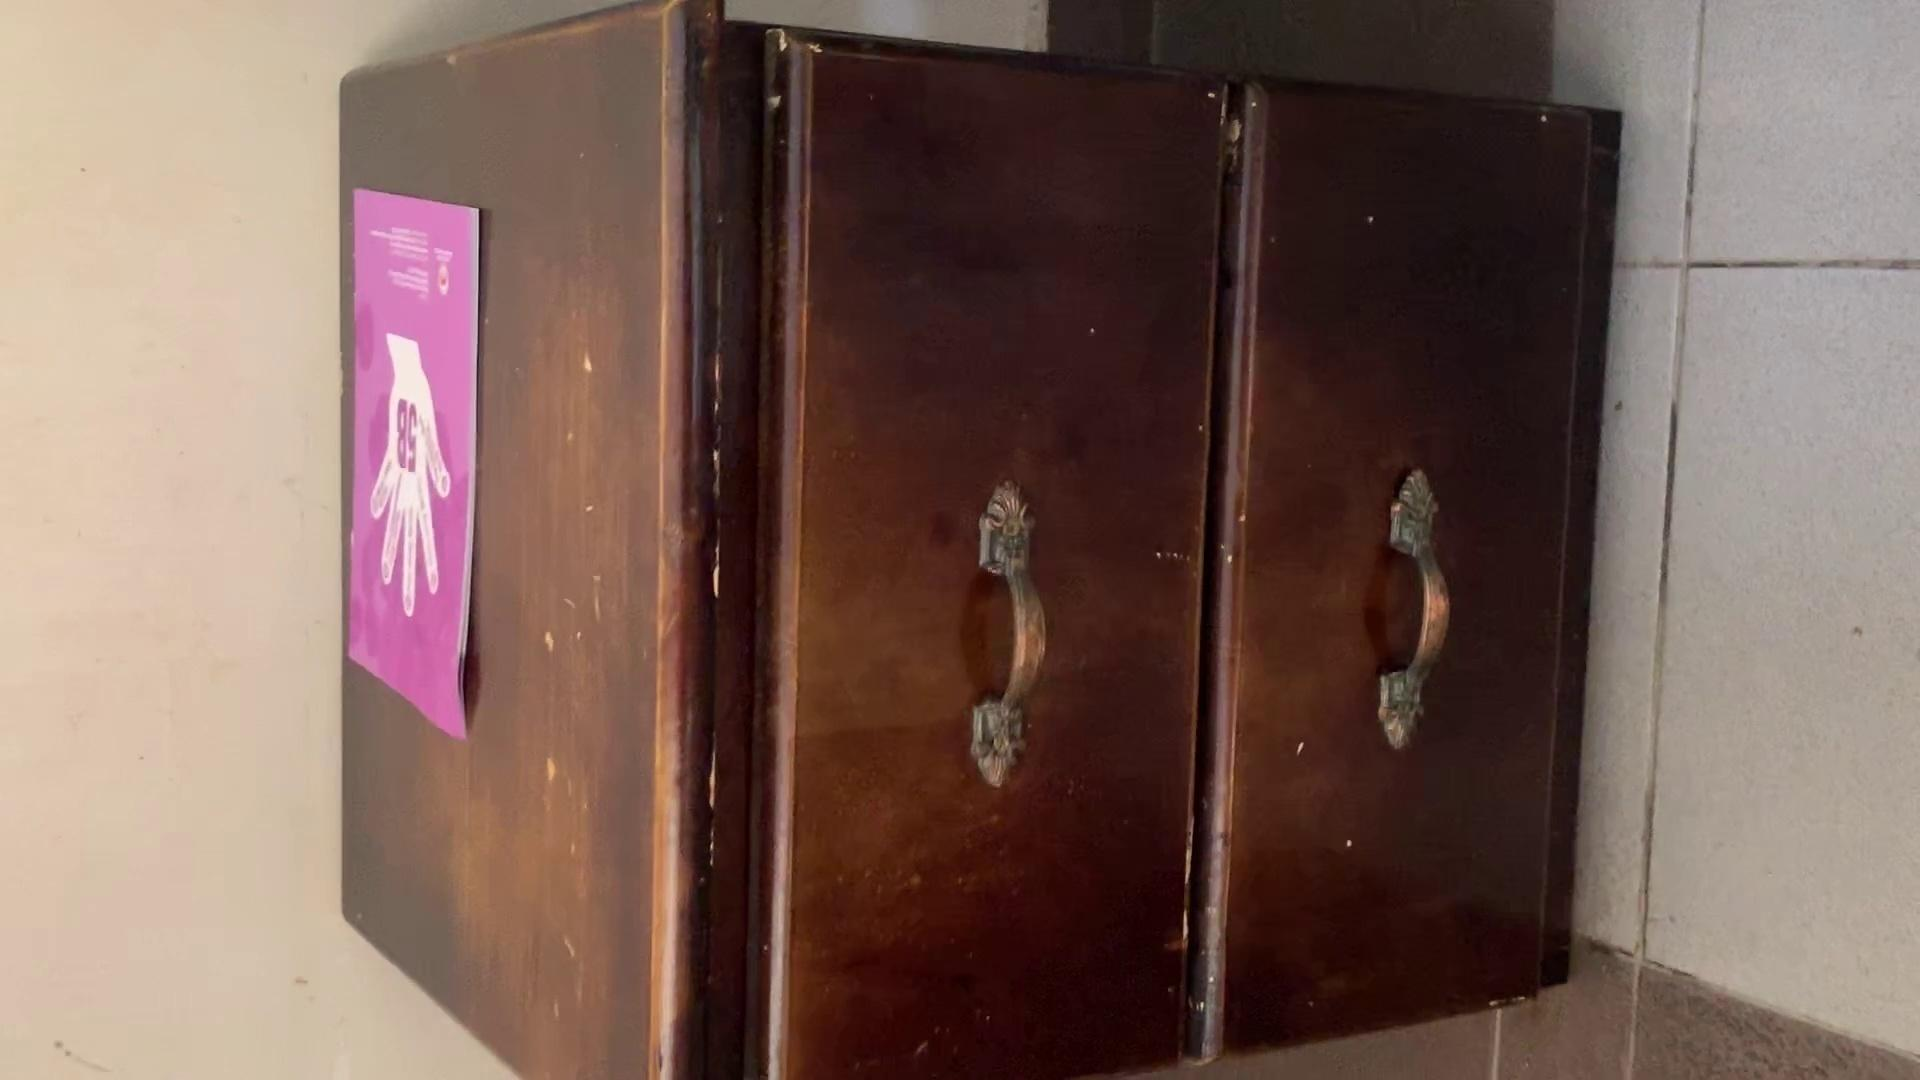cabinet_door: (761, 41, 1205, 1060), (1224, 79, 1586, 1042)
handle: (1354, 459, 1470, 769), (963, 475, 1075, 793)
